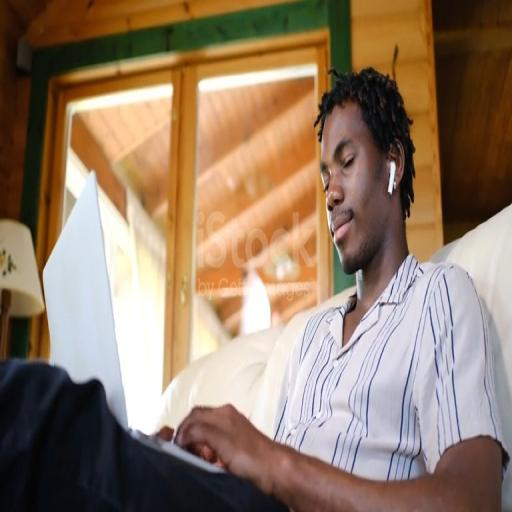earphone: (385, 160, 398, 201)
